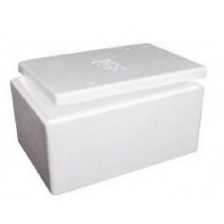foam_box: (3, 35, 212, 200)
